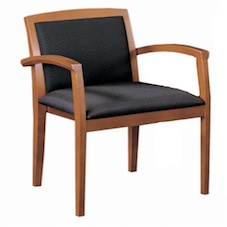chair: (9, 5, 218, 219)
